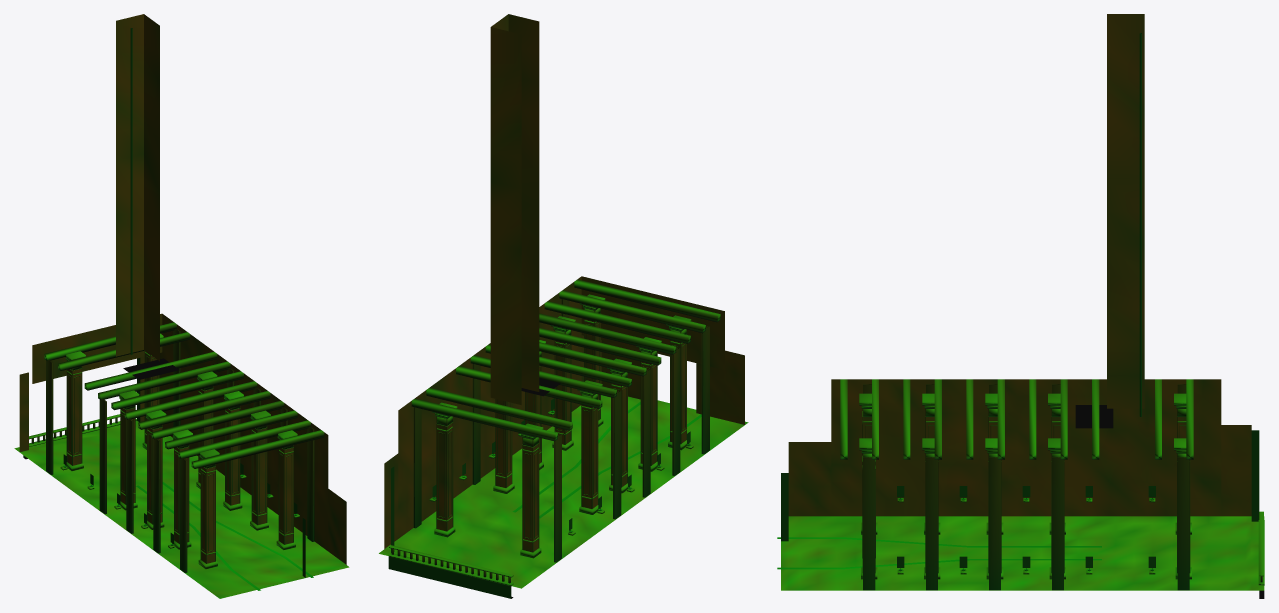
The model's file is anvil_hall.glb.
The picture shows the model from 3 angles, left to right: view 1: azimuth 30°, elevation 25°; view 2: azimuth 150°, elevation 25°; view 3: azimuth 270°, elevation 25°; orthographic projection. The views are drawn at different scales.
Parts seen in each view (by area): view 1: anvil_hall; view 2: anvil_hall; view 3: anvil_hall.
Boxes of the visible parts, bbox=[...] form: anvil_hall: bbox=[14, 14, 349, 598]; anvil_hall: bbox=[379, 14, 748, 598]; anvil_hall: bbox=[777, 14, 1264, 598].
Size of what is drawn, in the model's own units: 14 by 47.8 by 38.73.
